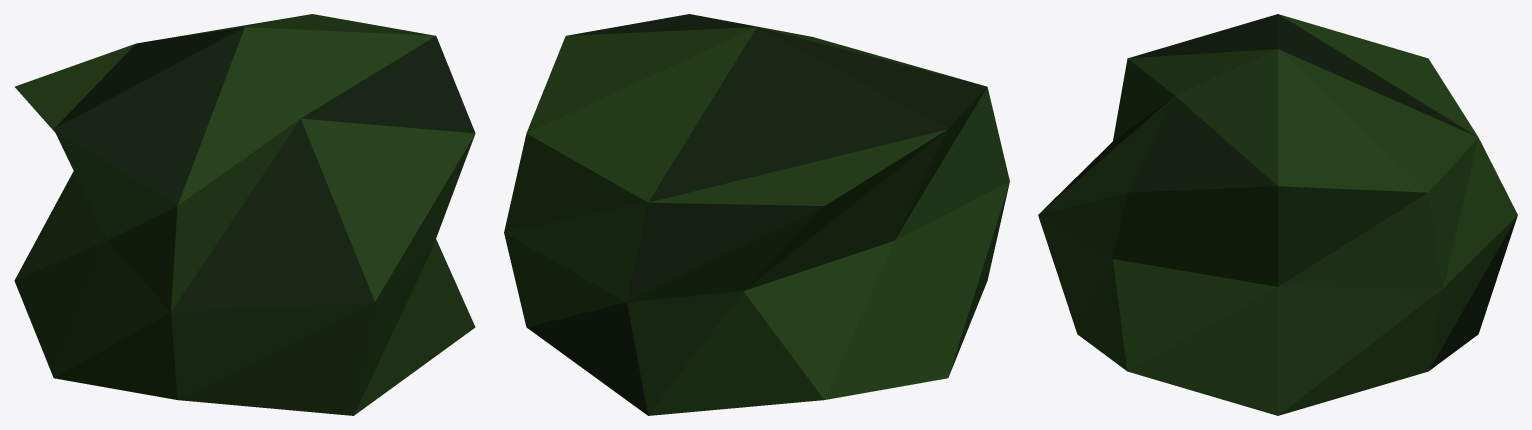
Rendered from Plant_M2_3.fbx.
3 views of the same model, side by side, from view 1: azimuth 30°, elevation 25°; view 2: azimuth 150°, elevation 25°; view 3: azimuth 270°, elevation 25° (orthographic). The views are drawn at different scales.
Visible parts, largest first — view 1: Plant_M2_3; view 2: Plant_M2_3; view 3: Plant_M2_3.
Boxes of the visible parts, left/top/right/bottom form: Plant_M2_3: left=14, top=14, right=475, bottom=415; Plant_M2_3: left=504, top=14, right=1009, bottom=415; Plant_M2_3: left=1038, top=14, right=1517, bottom=415.
Bounding box in the file's own units: 26.23 × 24.53 × 30.89.
